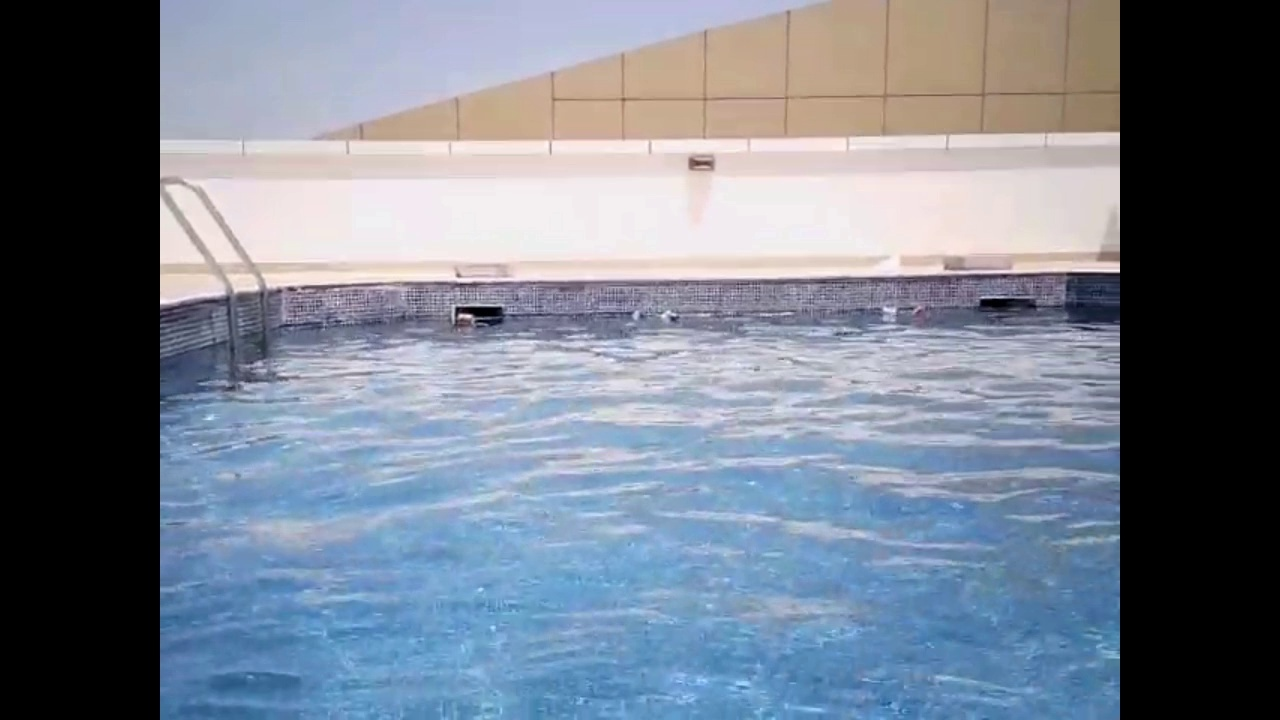debris: (657, 306, 685, 331), (626, 305, 651, 327), (454, 309, 478, 331), (876, 302, 902, 321), (906, 304, 930, 323)
